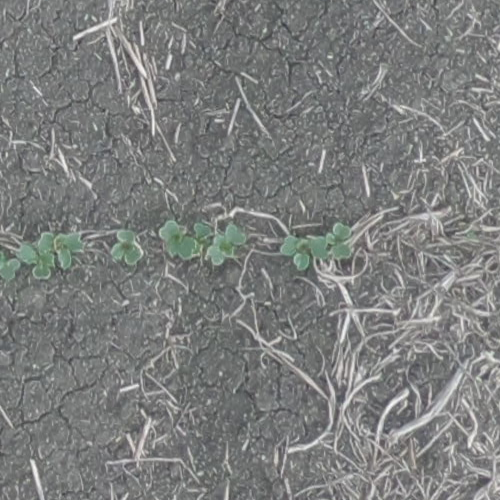plant: (0, 232, 84, 281), (159, 220, 246, 265), (280, 236, 329, 269), (108, 230, 142, 262), (329, 224, 358, 258)
